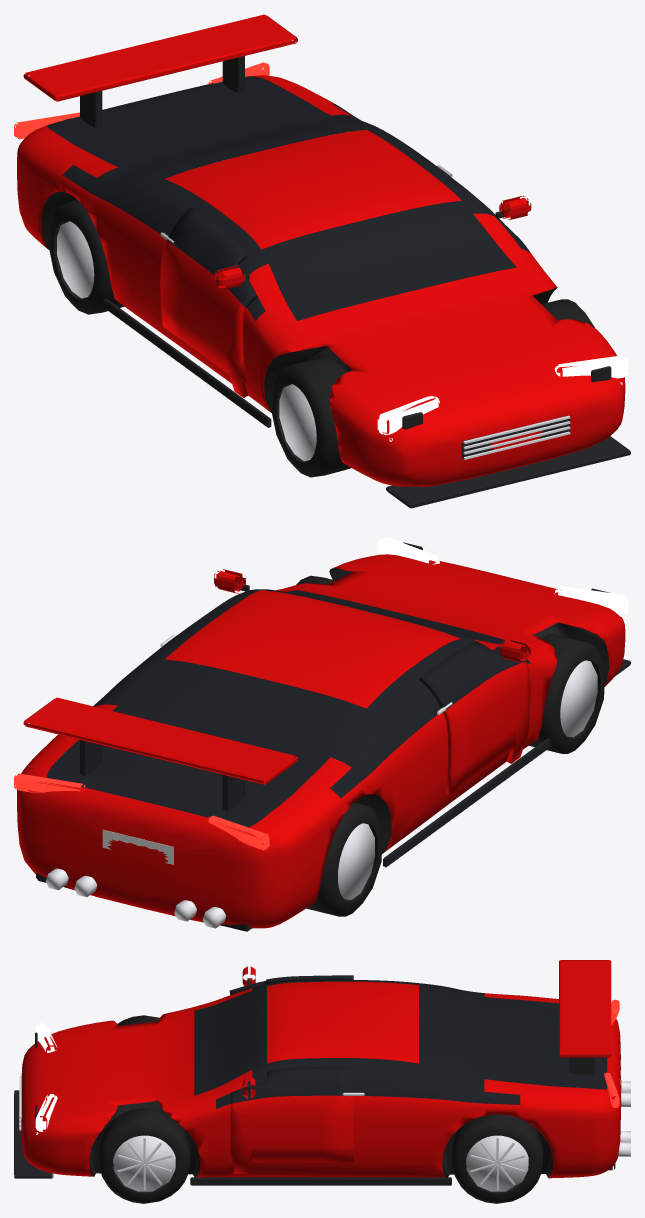
File: vanta.glb
The picture shows the model from 3 angles, top to bottom: view 1: azimuth 30°, elevation 25°; view 2: azimuth 150°, elevation 25°; view 3: azimuth 270°, elevation 25°; orthographic projection. The views are drawn at different scales.
Visible parts, largest first — view 1: body, door_R, wing, tire.001, splitter, tire.003, rim.001, rim.003, skirt.001, headlight, headlight.001, grille (+3 smaller); view 2: body, door_R, wing, tire.001, tire.003, rim.001, rim.003, skirt.001, headlight.001, taillight, taillight.001, headlight (+5 smaller); view 3: body, door_L, wing, tire, tire.002, rim, rim.002, skirt, splitter, door_R, wingpost, headlight (+1 smaller).
Part boxes in pixels (x1,y1,x2,y2): body: (17,75,625,486); door_R: (160,207,257,397); wing: (23,14,297,101); tire.001: (272,357,350,477); splitter: (386,436,630,508); tire.003: (49,200,124,314); rim.001: (279,384,316,461); rim.003: (57,221,94,298); skirt.001: (103,298,271,427); headlight: (554,355,628,378); headlight.001: (377,396,439,434); grille: (461,415,570,459); body: (17,554,625,928); door_R: (419,642,530,795); wing: (23,697,297,784); tire.001: (529,634,604,753); tire.003: (306,802,382,916); rim.001: (560,660,597,737); rim.003: (338,823,374,899); skirt.001: (383,738,551,867); headlight.001: (554,586,628,616); taillight: (14,773,85,793); taillight.001: (207,815,269,850); headlight: (377,537,439,564); body: (21,980,621,1178); door_L: (230,1066,353,1173); wing: (559,960,611,1057); tire: (99,1108,189,1203); tire.002: (452,1114,542,1203); rim: (113,1135,175,1191); rim.002: (466,1135,528,1191); skirt: (190,1177,451,1185); splitter: (14,1090,53,1178); door_R: (229,975,353,994); wingpost: (569,1057,595,1075); headlight: (35,1094,57,1131).
Size of what is drawn, in the model's own units: 2.2 by 1.22 by 4.72.
